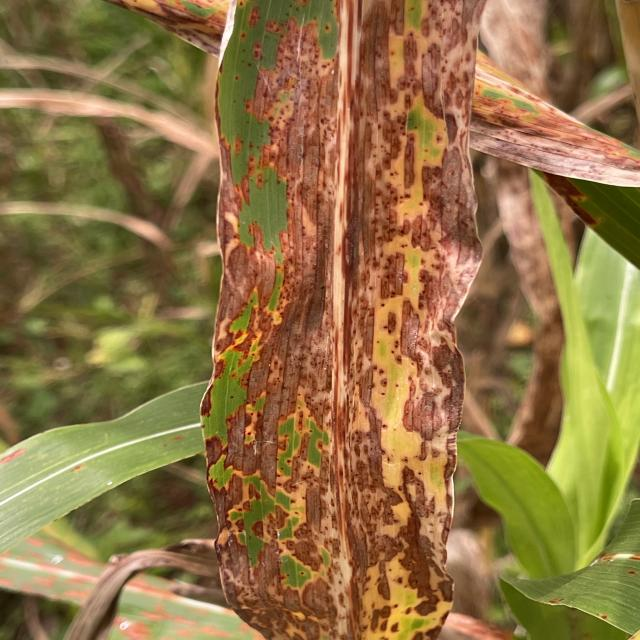millet_rust: (198, 0, 484, 640)
